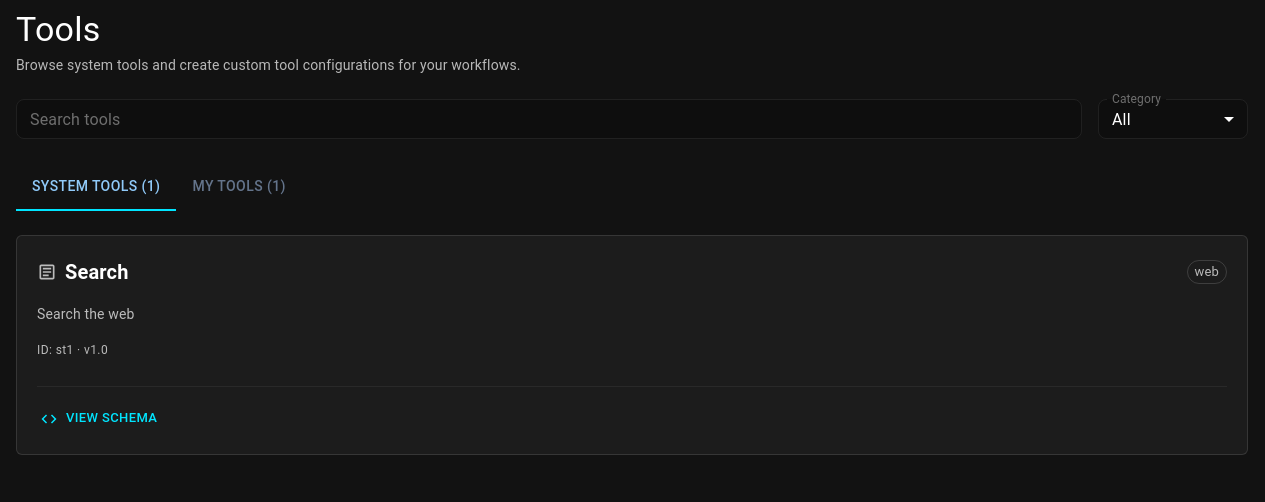
Test: ToolsPage › renders system and user tool lists
Expected: the text "Search the web" is shown, top-left (37, 306), bottom-right (135, 322)
// Switch to user tools tab
What coordinates should you click on to do the following:
click the tab "My Tools (1)"
I would click on:
 (239, 187)
Its box is top-left (176, 163), bottom-right (302, 211).
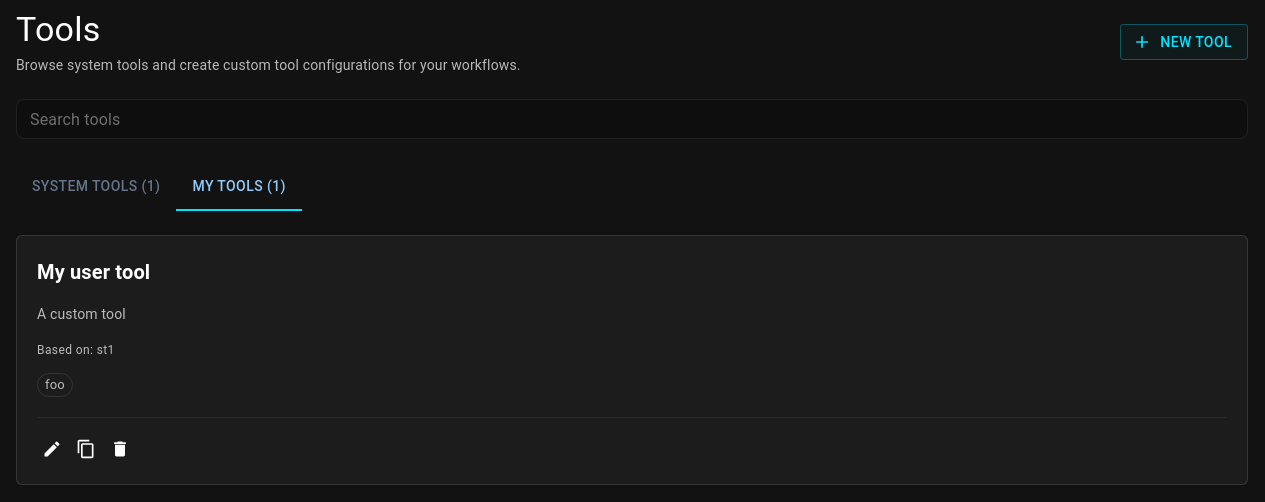
Result: the text "My user tool" is shown at top-left (37, 260), bottom-right (150, 284)
